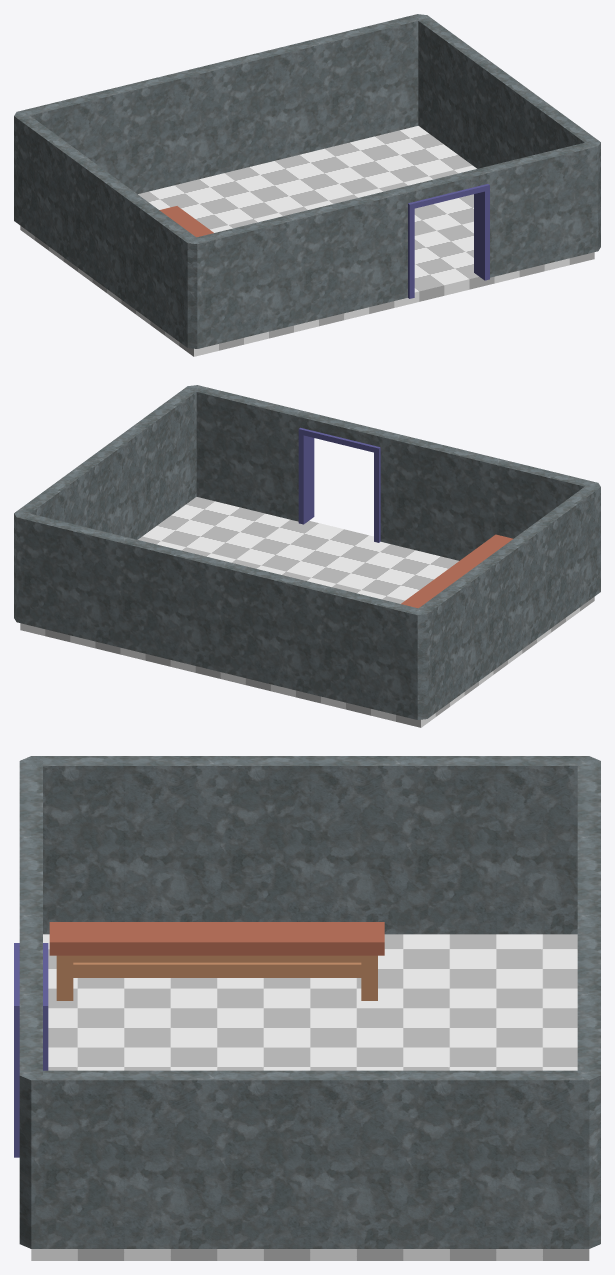
Rendered from Store.fbx.
The picture shows the model from 3 angles, top to bottom: view 1: azimuth 30°, elevation 25°; view 2: azimuth 150°, elevation 25°; view 3: azimuth 270°, elevation 25°; orthographic projection. The views are drawn at different scales.
Parts seen in each view (by area): view 1: mergedBlocks; view 2: mergedBlocks; view 3: mergedBlocks.
Boxes of the visible parts, box(x1,y1,x2,y2) form: mergedBlocks: box(14, 14, 600, 356); mergedBlocks: box(14, 385, 600, 727); mergedBlocks: box(14, 756, 600, 1260).
Size of the model in its own units: 41.25 by 11 by 31.55.
5 materials, 2 textured.
